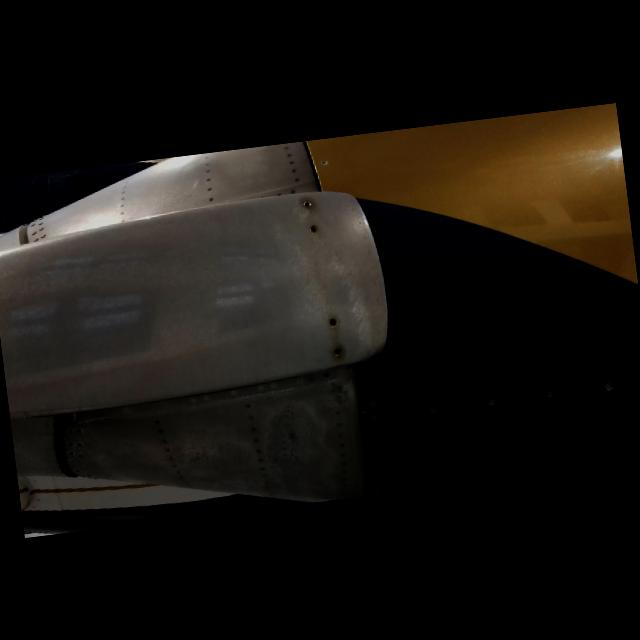Missing Fastener: (326, 314, 341, 329), (306, 222, 322, 236), (301, 198, 312, 208), (333, 346, 343, 356)
